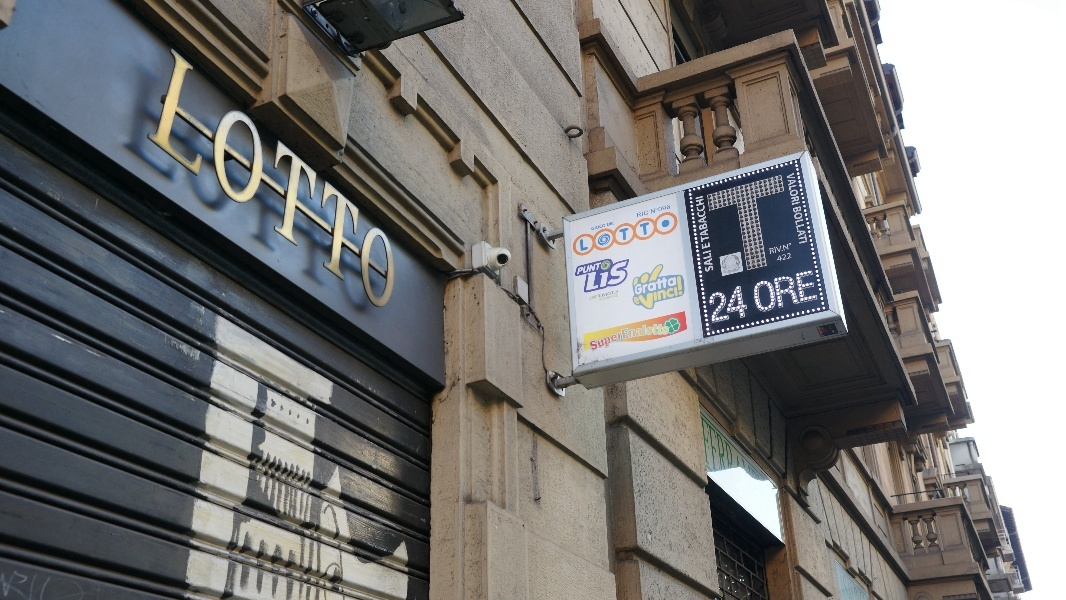text: (177, 48, 192, 318), (193, 48, 208, 318), (209, 48, 224, 318), (225, 48, 240, 318), (241, 48, 256, 318), (257, 48, 272, 318), (273, 48, 288, 318), (289, 48, 304, 318), (305, 48, 320, 318), (321, 48, 336, 318), (337, 48, 352, 318), (353, 48, 368, 318), (369, 48, 384, 318), (385, 48, 399, 318), (721, 170, 736, 281), (737, 170, 752, 281), (753, 170, 768, 281), (769, 170, 784, 281), (706, 170, 720, 281), (785, 170, 798, 281), (172, 48, 176, 318), (705, 416, 720, 488), (721, 416, 736, 488), (705, 195, 715, 273), (753, 269, 768, 314), (769, 269, 784, 314), (785, 269, 800, 314), (801, 269, 816, 314), (721, 285, 736, 325), (593, 217, 608, 252), (609, 217, 624, 252), (625, 217, 640, 252), (641, 217, 656, 252), (593, 259, 608, 294), (609, 259, 624, 294), (593, 317, 608, 352), (609, 317, 624, 352), (625, 317, 640, 352), (641, 317, 656, 352), (657, 317, 672, 352), (801, 173, 808, 245), (708, 285, 720, 325), (657, 217, 670, 252), (737, 285, 748, 325), (794, 173, 800, 245), (580, 217, 592, 252), (641, 287, 656, 312), (657, 287, 672, 312), (641, 275, 656, 296), (657, 275, 672, 296), (630, 287, 640, 312), (701, 416, 704, 488), (625, 259, 631, 294), (579, 262, 592, 276), (769, 243, 784, 255), (587, 259, 592, 294), (593, 290, 608, 301), (673, 287, 679, 312), (657, 205, 671, 215), (593, 262, 603, 276), (588, 317, 592, 352), (609, 290, 619, 301), (635, 275, 640, 296), (593, 224, 606, 231), (776, 252, 784, 263), (673, 275, 677, 296), (785, 243, 792, 255), (785, 252, 792, 263), (737, 416, 738, 488), (641, 210, 649, 218), (651, 205, 656, 215), (817, 269, 818, 314), (609, 222, 615, 227), (637, 210, 640, 218), (590, 290, 592, 301), (607, 222, 608, 227)
